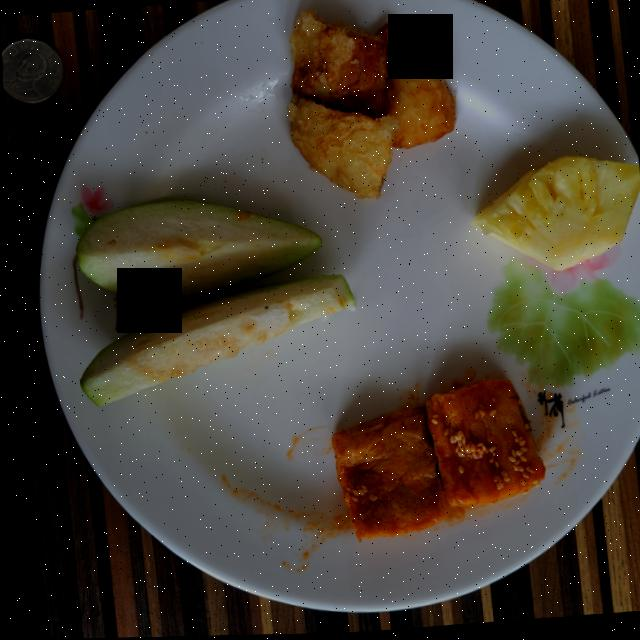coin: (2, 38, 64, 104)
creamy tofu: (329, 381, 541, 541)
fried potato: (287, 11, 455, 200)
guava -sliced-: (75, 200, 352, 406)
pineapple: (470, 158, 640, 274)
